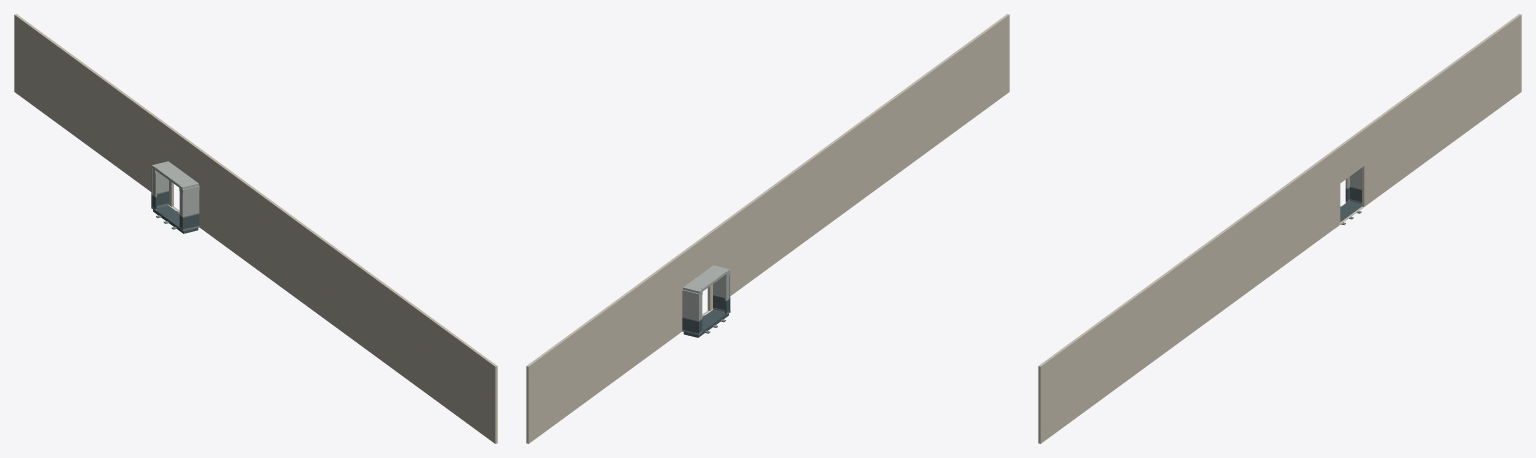
The model's file is ARRIVALS_STAFF_RECEIVER_r001.glb.
3 renders of one model, left to right at view 1: azimuth 30°, elevation 25°; view 2: azimuth 150°, elevation 25°; view 3: azimuth 330°, elevation 25°, orthographic.
Visible parts, largest first — view 1: ARR_WestLowerOpaque_ARRIVALS_STAFF_GATEWAY, ORX_BATCH_001, ORX_BATCH_000; view 2: ARR_WestLowerOpaque_ARRIVALS_STAFF_GATEWAY, ORX_BATCH_001, ORX_BATCH_000; view 3: ARR_WestLowerOpaque_ARRIVALS_STAFF_GATEWAY, ORX_BATCH_000.
Boxes of the visible parts, bbox=[...] form: ARR_WestLowerOpaque_ARRIVALS_STAFF_GATEWAY: bbox=[14, 14, 497, 443]; ORX_BATCH_001: bbox=[151, 161, 199, 216]; ORX_BATCH_000: bbox=[151, 191, 199, 233]; ARR_WestLowerOpaque_ARRIVALS_STAFF_GATEWAY: bbox=[526, 14, 1009, 443]; ORX_BATCH_001: bbox=[682, 265, 730, 320]; ORX_BATCH_000: bbox=[682, 295, 730, 337]; ARR_WestLowerOpaque_ARRIVALS_STAFF_GATEWAY: bbox=[1038, 14, 1521, 443]; ORX_BATCH_000: bbox=[1340, 187, 1361, 221].
Bounding box in the file's own units: 1.8 × 6.24 × 67.7.
5 materials, 4 textured.
